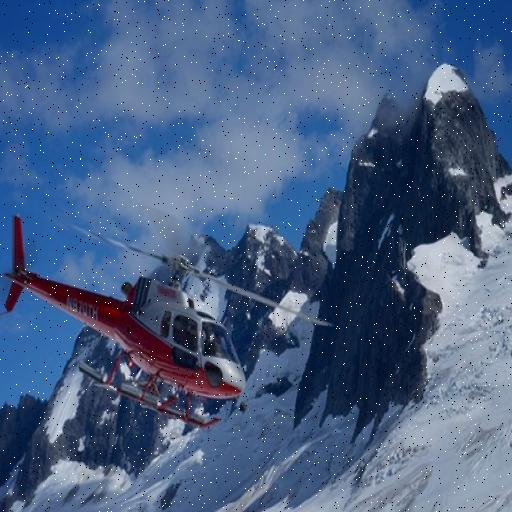helicopter: (8, 206, 336, 430)
